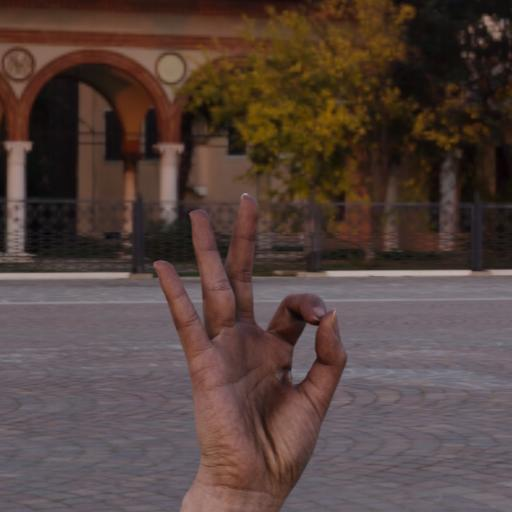F: (134, 172, 386, 497)
